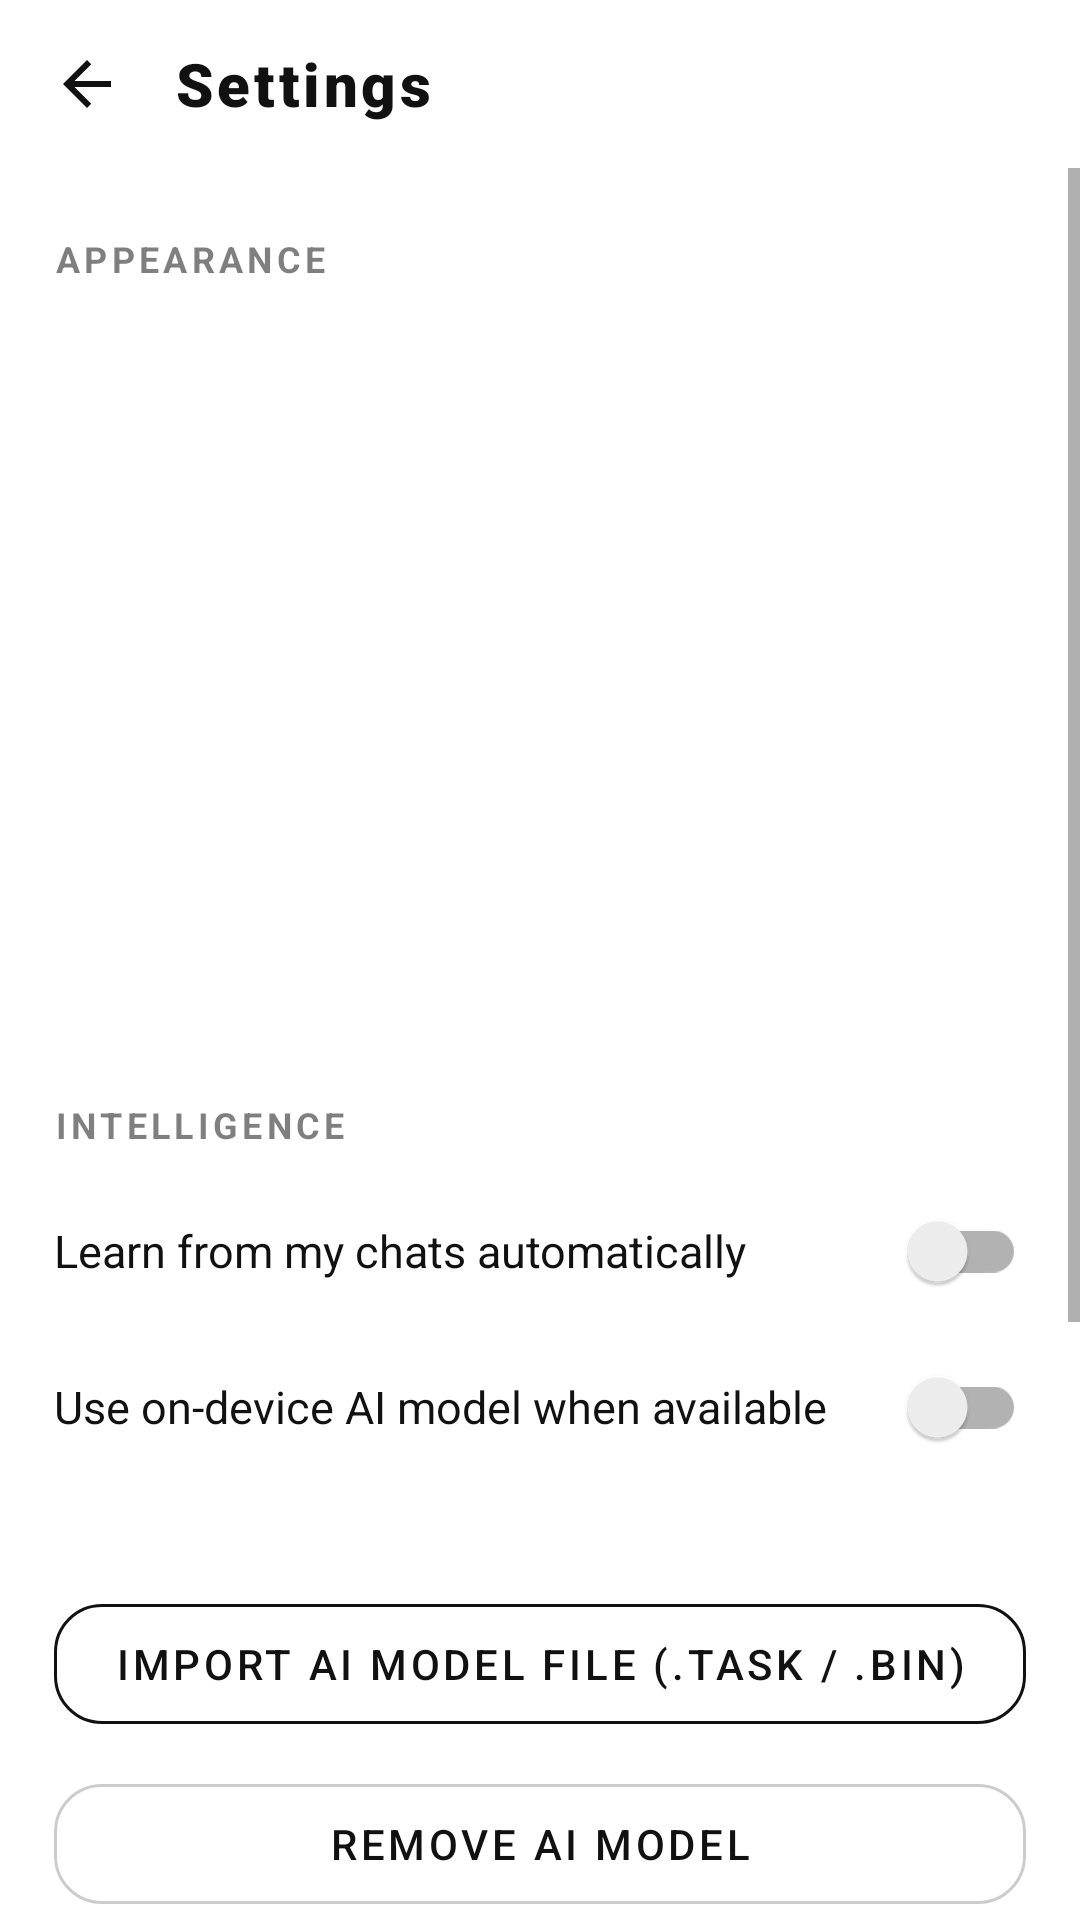

Screen size 1080px x 1920px. Icon name, then its box in pixels as (x1, y1, x2, y2):
back: (63, 60, 111, 108)
